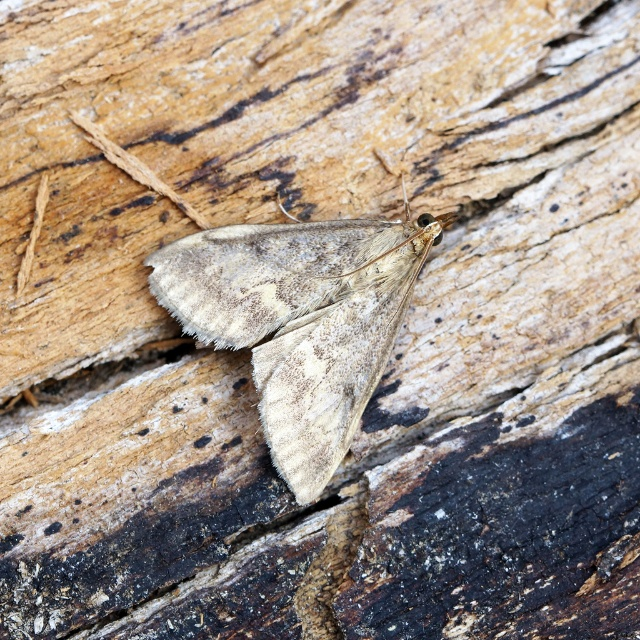Moths and butterflies: (139, 172, 446, 512)
